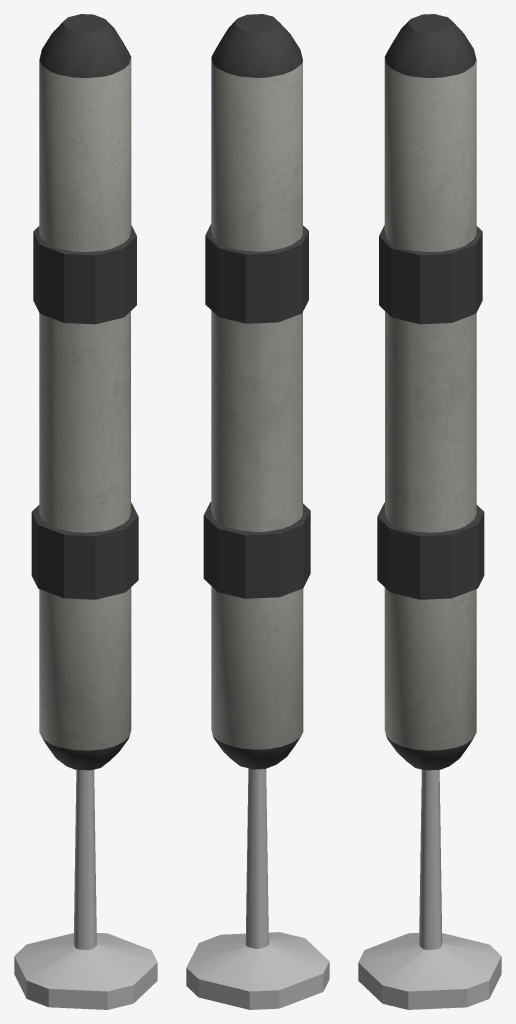
Rendered from OutdoorLamp1.fbx.
The picture shows the model from 3 angles, left to right: view 1: azimuth 30°, elevation 25°; view 2: azimuth 150°, elevation 25°; view 3: azimuth 330°, elevation 25°; orthographic projection.
Visible parts, largest first — view 1: Cylinder; view 2: Cylinder; view 3: Cylinder.
Boxes of the visible parts, x1=… form: Cylinder: x1=14, y1=14, x2=157, y2=1009; Cylinder: x1=186, y1=14, x2=329, y2=1009; Cylinder: x1=358, y1=14, x2=501, y2=1009.
Bounding box in the file's own units: 203 × 1489 × 193.
3 materials, 3 textured.
